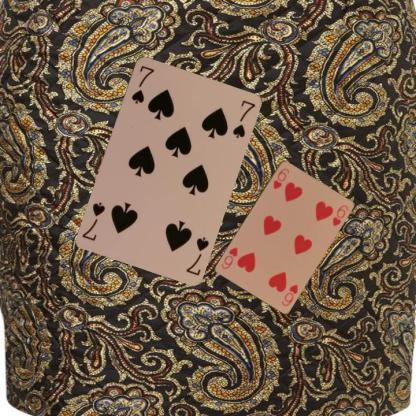6h: (270, 165, 290, 191), (279, 282, 299, 308)
7s: (183, 233, 210, 277), (129, 63, 155, 104)
